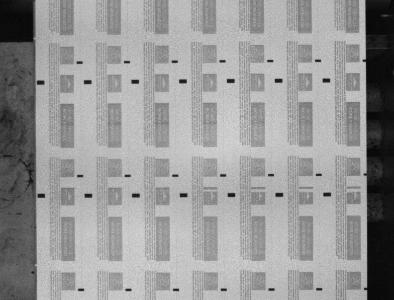backgroundclutter: (31, 271, 35, 274), (34, 264, 37, 267)
incorrect qblock: (364, 287, 368, 290), (364, 173, 368, 176), (363, 59, 366, 62)
qblock: (276, 192, 284, 197), (228, 192, 236, 197), (37, 80, 45, 85), (84, 193, 92, 198), (131, 79, 139, 84), (275, 78, 283, 83), (37, 193, 45, 198), (227, 78, 235, 83), (323, 192, 332, 196), (132, 193, 140, 197), (180, 193, 188, 197), (179, 79, 187, 83), (323, 78, 331, 82), (84, 80, 92, 84)
smallqblock: (220, 59, 226, 63), (76, 61, 83, 64), (125, 288, 132, 291), (316, 288, 323, 291), (267, 59, 274, 62), (315, 59, 322, 62), (77, 174, 84, 177), (268, 173, 275, 176), (220, 174, 227, 177), (172, 174, 179, 177), (269, 288, 275, 291), (78, 288, 84, 291), (124, 60, 130, 63), (173, 288, 179, 291), (221, 288, 227, 291), (172, 60, 178, 63), (316, 173, 322, 176), (125, 174, 131, 177)
